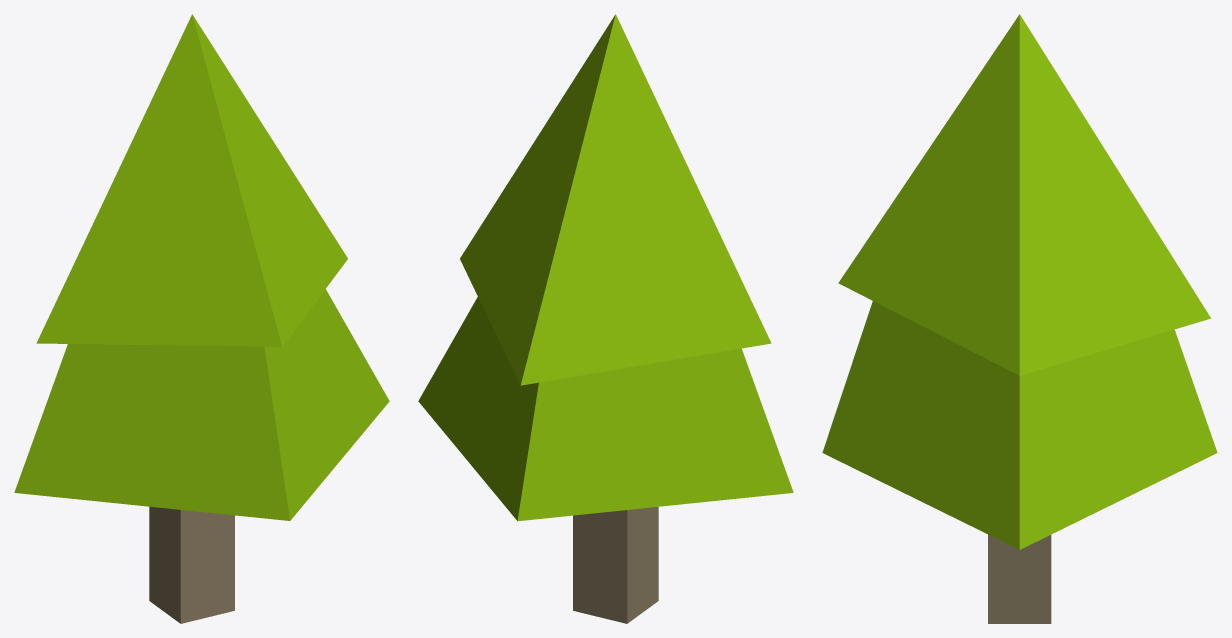
The model's file is pine_skewed_14.fbx.
3 views of the same model, side by side, from view 1: azimuth 30°, elevation 25°; view 2: azimuth 150°, elevation 25°; view 3: azimuth 270°, elevation 25° (orthographic).
Parts seen in each view (by area): view 1: pine_skewed_14; view 2: pine_skewed_14; view 3: pine_skewed_14.
Boxes of the visible parts, x1,y1,x2,y2 form: pine_skewed_14: (14, 14, 389, 623); pine_skewed_14: (418, 14, 793, 623); pine_skewed_14: (822, 14, 1217, 623).
Size of the model in its own units: 83.59 by 126 by 75.59.
